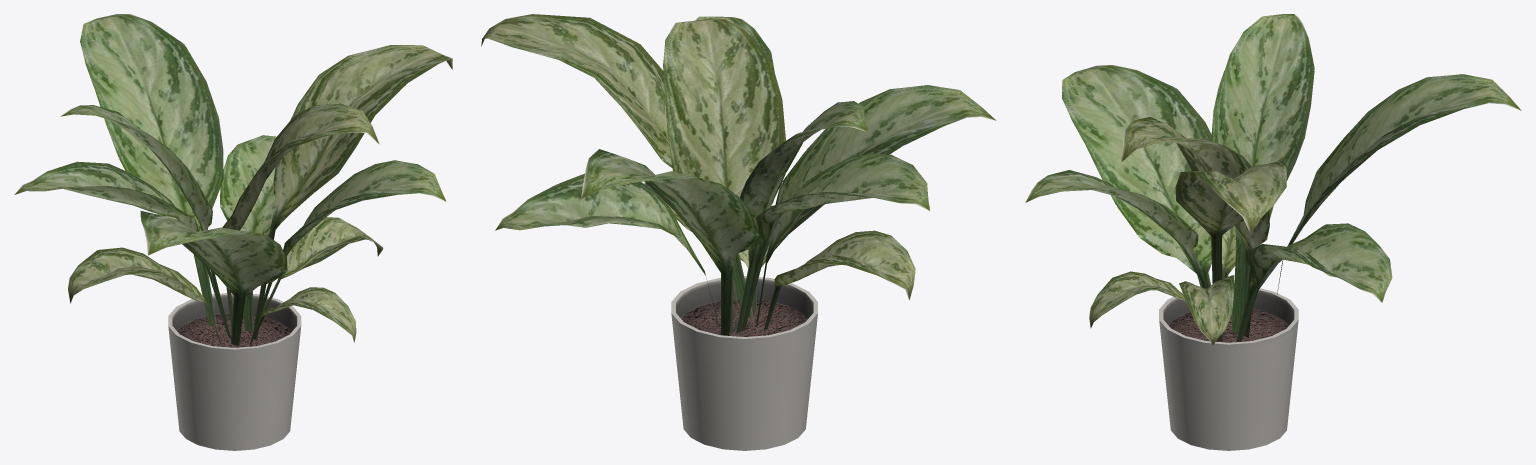
Rendered from Plant_InteriorHouse_Aglaonema.FBX.
3 renders of one model, left to right at view 1: azimuth 30°, elevation 25°; view 2: azimuth 150°, elevation 25°; view 3: azimuth 270°, elevation 25°, orthographic. The views are drawn at different scales.
Parts seen in each view (by area): view 1: Plant_InteriorHouse_Aglaonema; view 2: Plant_InteriorHouse_Aglaonema; view 3: Plant_InteriorHouse_Aglaonema.
Part boxes in pixels (left/top/right/bottom): Plant_InteriorHouse_Aglaonema: left=14, top=14, right=452, bottom=450; Plant_InteriorHouse_Aglaonema: left=481, top=14, right=995, bottom=450; Plant_InteriorHouse_Aglaonema: left=1025, top=14, right=1521, bottom=450.
Bounding box in the file's own units: 61.42 × 45.85 × 59.61.
